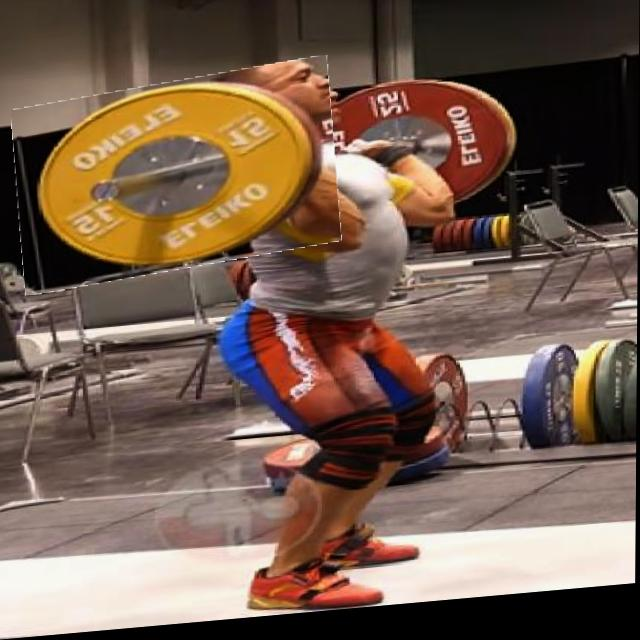barbell: (15, 68, 340, 291)
